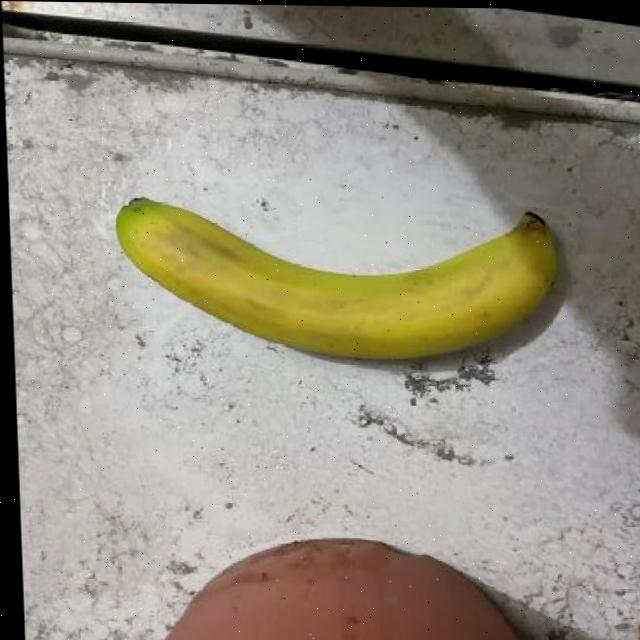banana: (107, 191, 566, 371)
